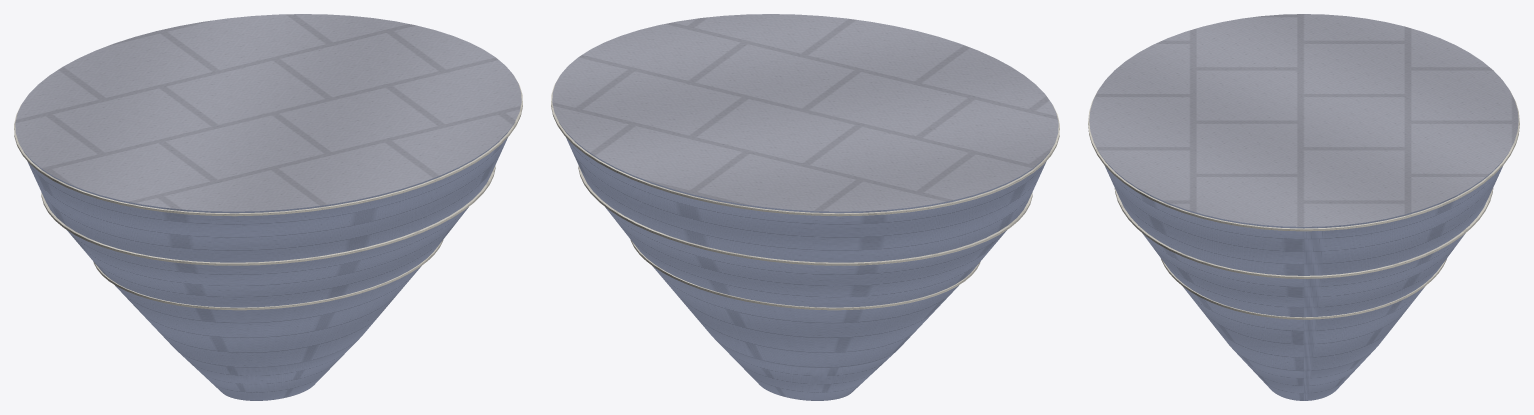
The model's file is high_crown_battle_foundation.obj.
3 views of the same model, side by side, from view 1: azimuth 30°, elevation 25°; view 2: azimuth 150°, elevation 25°; view 3: azimuth 270°, elevation 25° (orthographic). The views are drawn at different scales.
Parts seen in each view (by area): view 1: high_crown_battle_foundation; view 2: high_crown_battle_foundation; view 3: high_crown_battle_foundation.
Boxes of the visible parts, x1=… form: high_crown_battle_foundation: x1=14, y1=14, x2=522, y2=400; high_crown_battle_foundation: x1=551, y1=14, x2=1059, y2=400; high_crown_battle_foundation: x1=1088, y1=14, x2=1519, y2=400.
Bounding box in the file's own units: 81.4 × 46 × 69.4.
3 materials, 3 textured.
